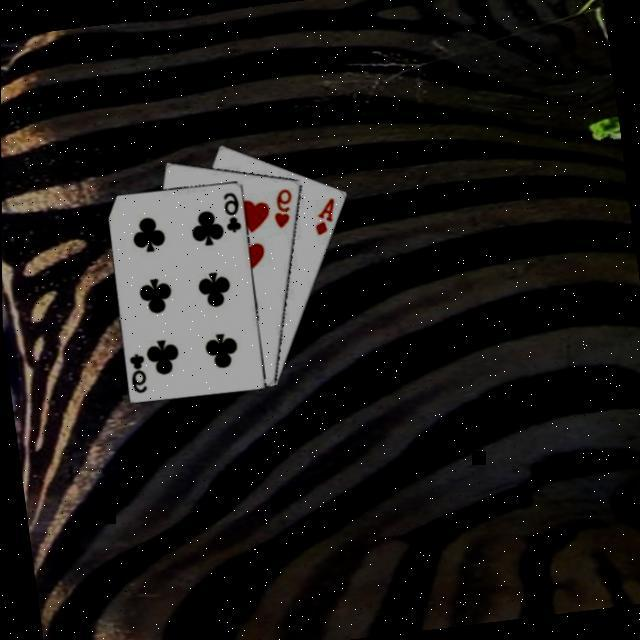6C: (122, 348, 148, 394), (217, 188, 242, 234)
9H: (265, 183, 296, 230)
AD: (306, 193, 339, 238)
